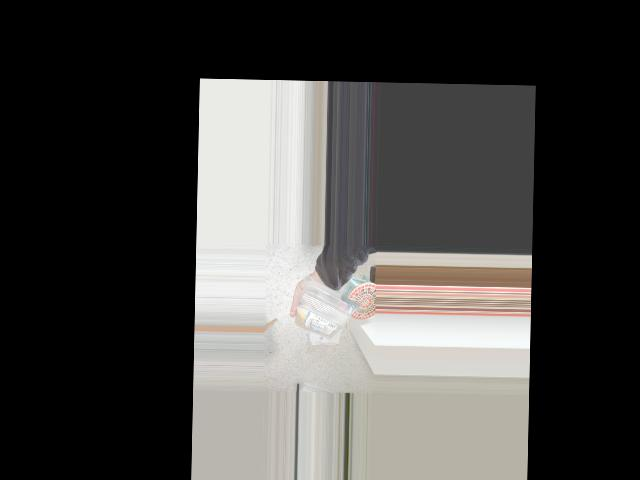cheese: (296, 275, 364, 350)
